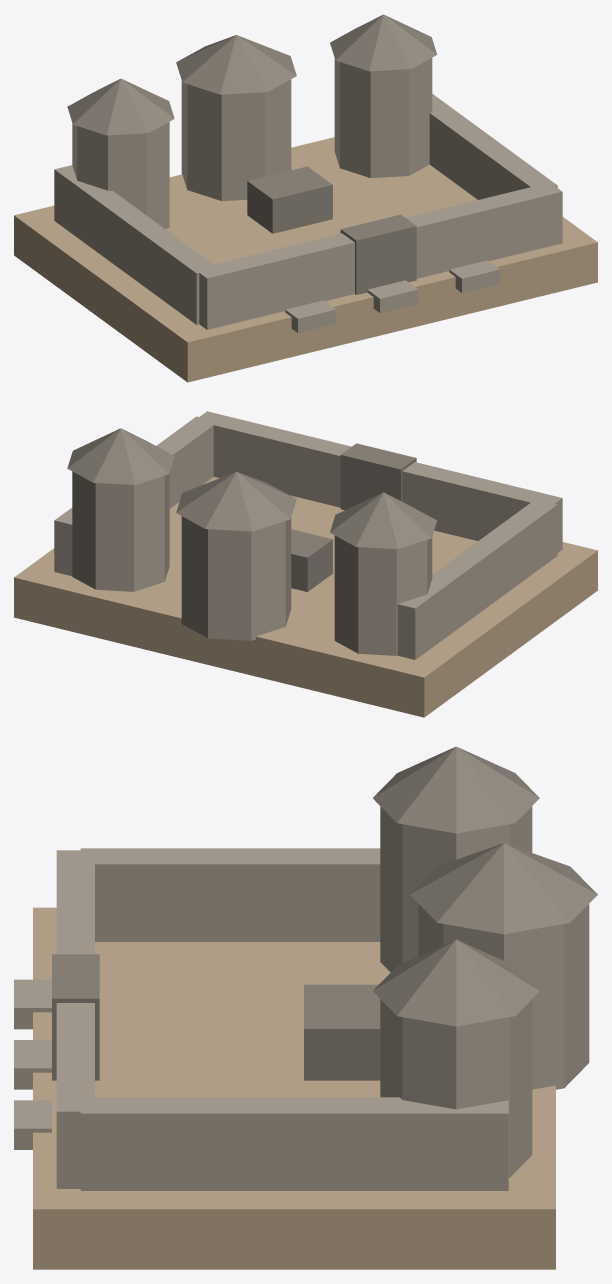
The model's file is chanca_fortress_lod0.glb.
3 views of the same model, one above another, from view 1: azimuth 30°, elevation 25°; view 2: azimuth 150°, elevation 25°; view 3: azimuth 270°, elevation 25° (orthographic). The views are drawn at different scales.
Parts seen in each view (by area): view 1: chanca_fortress; view 2: chanca_fortress; view 3: chanca_fortress.
Boxes of the visible parts, x1,y1,x2,y2 form: chanca_fortress: (14, 14, 597, 382); chanca_fortress: (14, 411, 597, 717); chanca_fortress: (14, 746, 597, 1269).
Size of the model in its own units: 15 by 6.4 by 12.28.
